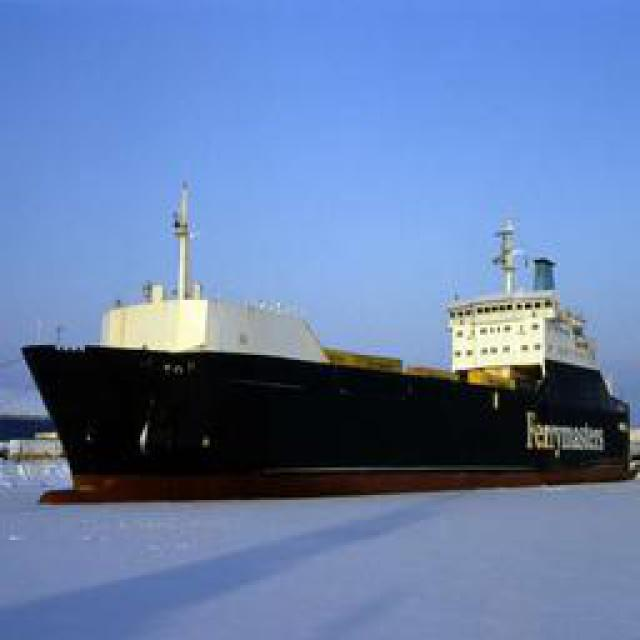Ship: (16, 160, 629, 493)
